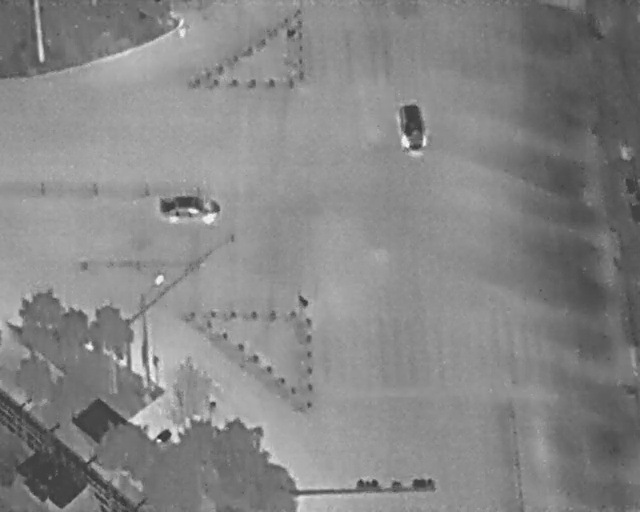Car: (392, 98, 431, 160), (154, 192, 223, 226)
Person: (176, 16, 187, 40)
